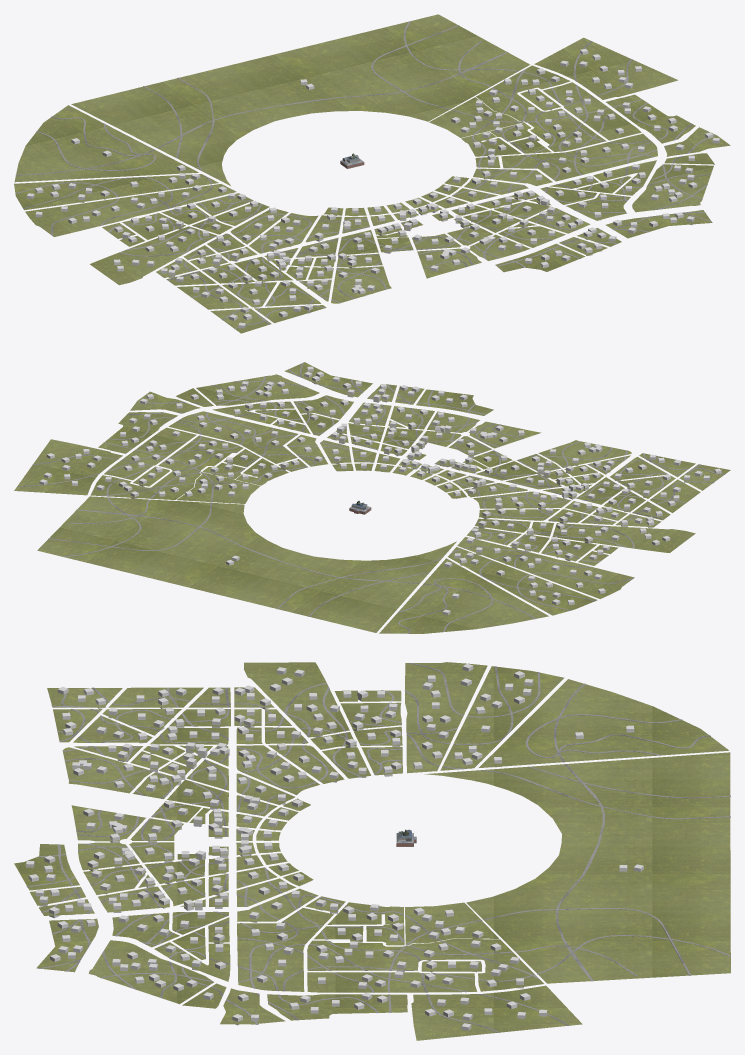
Rendered from libraries.glb.
The picture shows the model from 3 angles, top to bottom: view 1: azimuth 30°, elevation 25°; view 2: azimuth 150°, elevation 25°; view 3: azimuth 270°, elevation 25°; orthographic projection. The views are drawn at different scales.
Parts seen in each view (by area): view 1: ground_libraries_81, ground_libraries_82, ground_libraries_93, ground_libraries_49, ground_libraries_76, ground_libraries_48, ground_libraries_68, ground_libraries_53, ground_libraries_83, ground_libraries_78, streets_libraries_81, ground_libraries_92 (+29 smaller); view 2: ground_libraries_81, ground_libraries_82, ground_libraries_93, ground_libraries_49, ground_libraries_76, ground_libraries_48, ground_libraries_68, ground_libraries_53, ground_libraries_83, ground_libraries_78, streets_libraries_81, ground_libraries_92 (+30 smaller); view 3: ground_libraries_81, ground_libraries_82, ground_libraries_93, ground_libraries_49, ground_libraries_76, ground_libraries_48, ground_libraries_68, ground_libraries_53, ground_libraries_83, ground_libraries_78, streets_libraries_81, ground_libraries_92 (+38 smaller).
Boxes of the visible parts, bbox=[...] form: ground_libraries_81: bbox=[71, 14, 529, 185]; ground_libraries_82: bbox=[14, 105, 198, 182]; ground_libraries_93: bbox=[534, 37, 677, 99]; ground_libraries_49: bbox=[25, 184, 236, 236]; ground_libraries_76: bbox=[476, 65, 606, 151]; ground_libraries_48: bbox=[14, 174, 218, 210]; ground_libraries_68: bbox=[501, 133, 657, 181]; ground_libraries_53: bbox=[90, 226, 216, 285]; ground_libraries_83: bbox=[632, 164, 713, 212]; ground_libraries_78: bbox=[543, 82, 641, 140]; streets_libraries_81: bbox=[143, 21, 518, 170]; ground_libraries_92: bbox=[606, 94, 695, 143]; ground_libraries_81: bbox=[37, 496, 456, 632]; ground_libraries_82: bbox=[379, 558, 548, 633]; ground_libraries_93: bbox=[14, 439, 122, 495]; ground_libraries_49: bbox=[457, 537, 634, 598]; ground_libraries_76: bbox=[90, 435, 243, 499]; ground_libraries_48: bbox=[448, 547, 597, 615]; ground_libraries_68: bbox=[168, 411, 298, 463]; ground_libraries_53: bbox=[552, 523, 695, 552]; ground_libraries_83: bbox=[196, 374, 319, 405]; ground_libraries_78: bbox=[104, 427, 196, 480]; streets_libraries_81: bbox=[48, 497, 441, 616]; ground_libraries_92: bbox=[98, 412, 177, 453]; ground_libraries_81: bbox=[424, 752, 730, 983]; ground_libraries_82: bbox=[479, 679, 728, 767]; ground_libraries_93: bbox=[411, 985, 582, 1040]; ground_libraries_49: bbox=[405, 662, 487, 773]; ground_libraries_76: bbox=[307, 939, 543, 991]; ground_libraries_48: bbox=[440, 666, 564, 770]; ground_libraries_68: bbox=[237, 908, 333, 991]; ground_libraries_53: bbox=[244, 662, 349, 737]; ground_libraries_83: bbox=[88, 940, 213, 1004]; ground_libraries_78: bbox=[307, 972, 477, 992]; streets_libraries_81: bbox=[480, 764, 730, 981]; ground_libraries_92: bbox=[267, 994, 407, 1020].
Bounding box in the file's own units: 11.64 × 0.2584 × 9.31.
10 materials, 10 textured.
